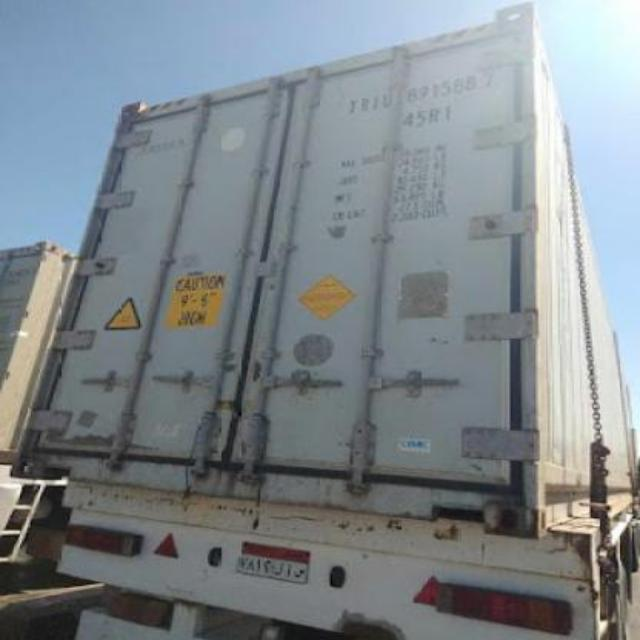1: (430, 81, 442, 101)
5: (441, 78, 454, 96)
7: (484, 70, 496, 90)
8: (452, 76, 466, 96), (468, 74, 478, 95), (406, 88, 416, 102)
9: (418, 84, 430, 104)
I: (374, 94, 380, 112)
R: (358, 95, 370, 115)
T: (346, 97, 358, 117)
U: (382, 92, 392, 112)
